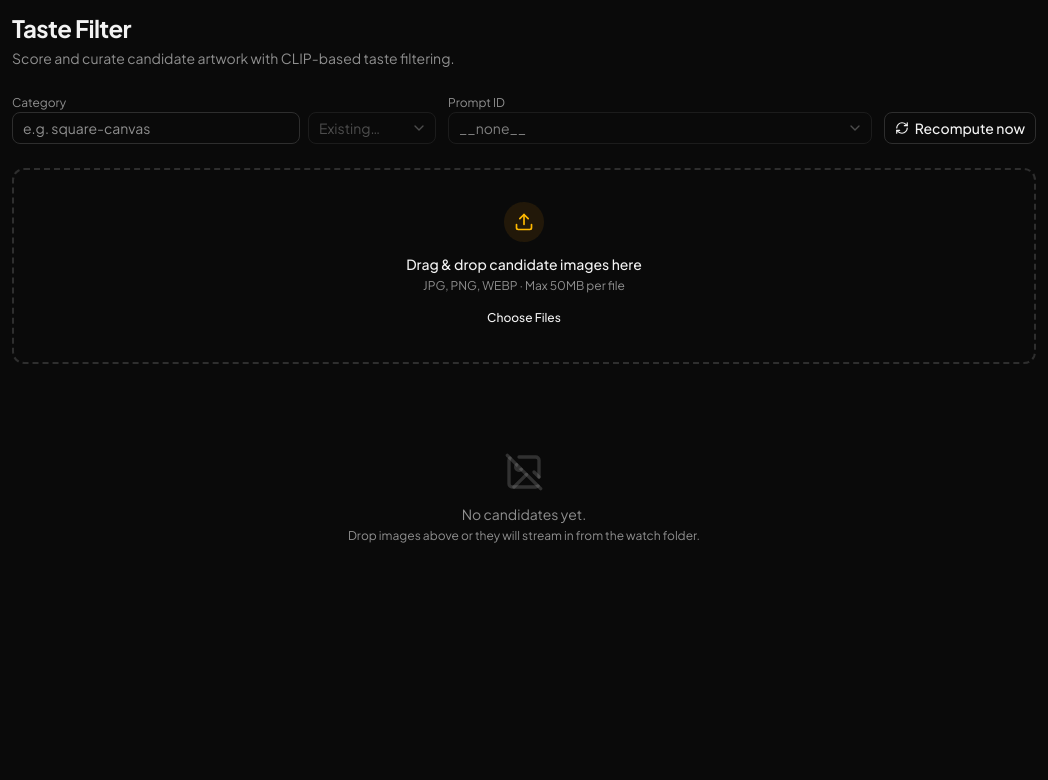
Test: TasteFilter › recompute now shows updated global counts
Click the button "Recompute now" at (960, 128), box [884,112,1036,144]
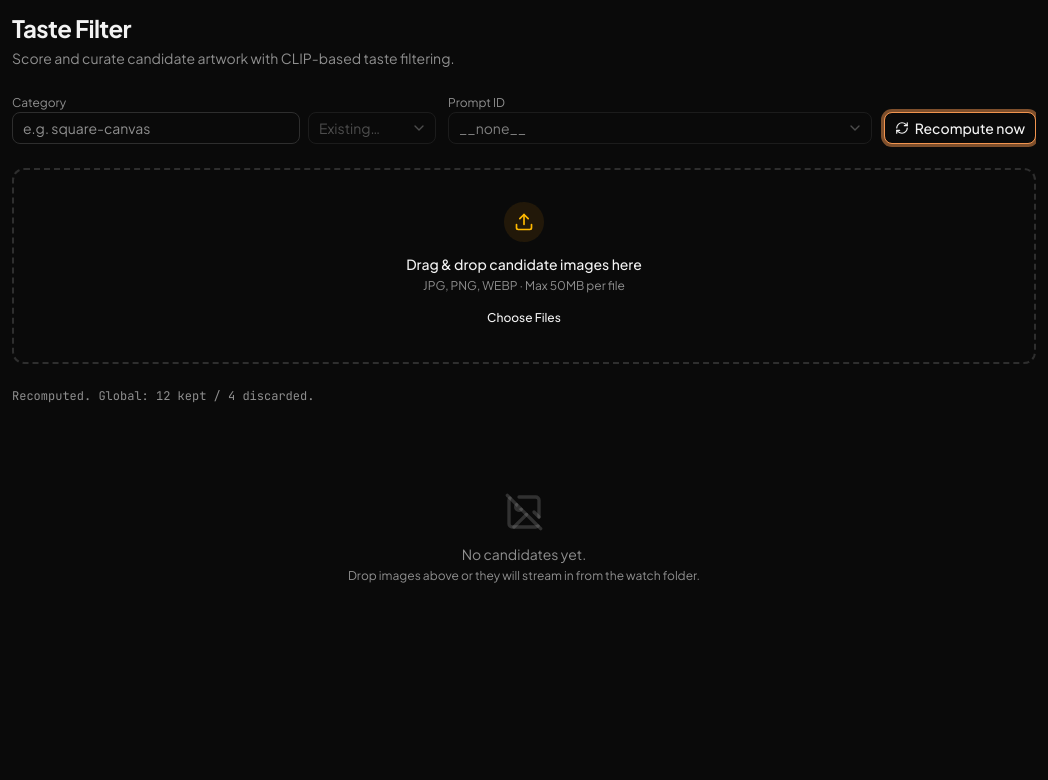
expect the text "Recomputed. Global: 12 kept / 4 discarded." is shown: met, box [12,388,314,404]
